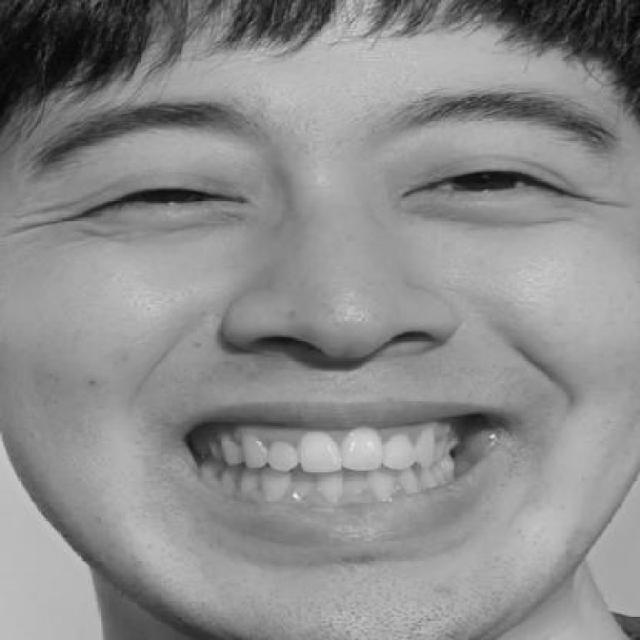happy: (45, 62, 628, 556)
